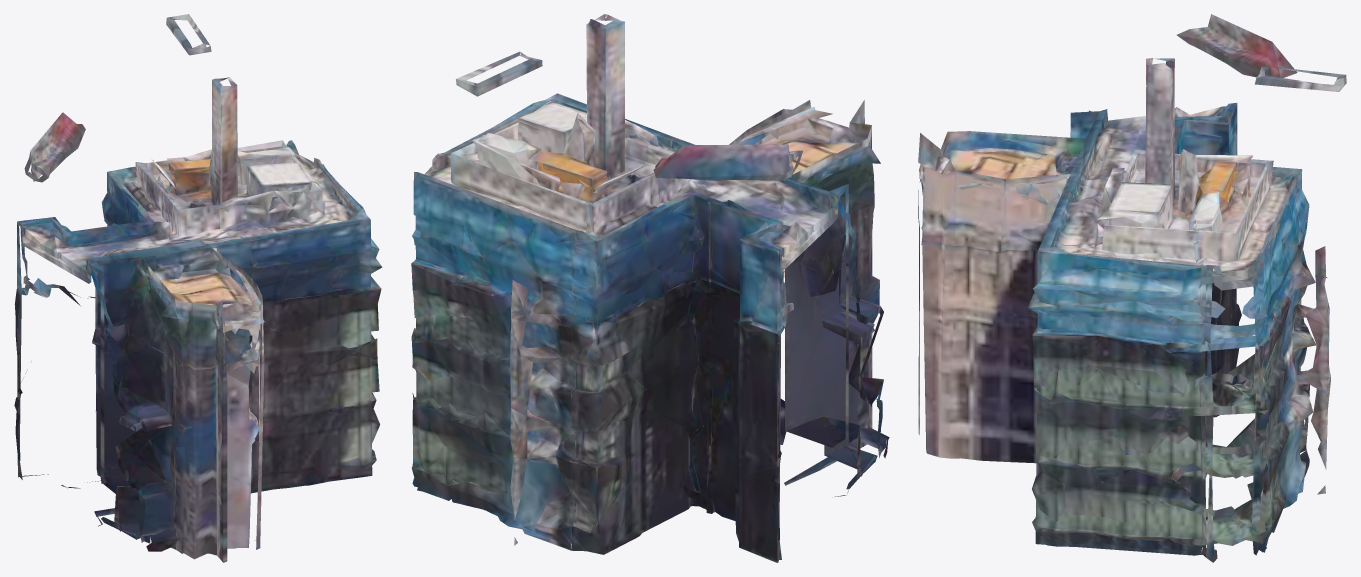
3 renders of one model, left to right at view 1: azimuth 30°, elevation 25°; view 2: azimuth 150°, elevation 25°; view 3: azimuth 270°, elevation 25°, orthographic. The views are drawn at different scales.
Visible parts, largest first — view 1: Mesh_0; view 2: Mesh_0; view 3: Mesh_0.
Boxes of the visible parts, x1=… form: Mesh_0: x1=14, y1=14, x2=382, y2=562; Mesh_0: x1=411, y1=14, x2=889, y2=562; Mesh_0: x1=918, y1=14, x2=1346, y2=562.
Size of the model in its own units: 30.05 by 37.29 by 33.05.
Materials: 1 (1 with a texture image).
